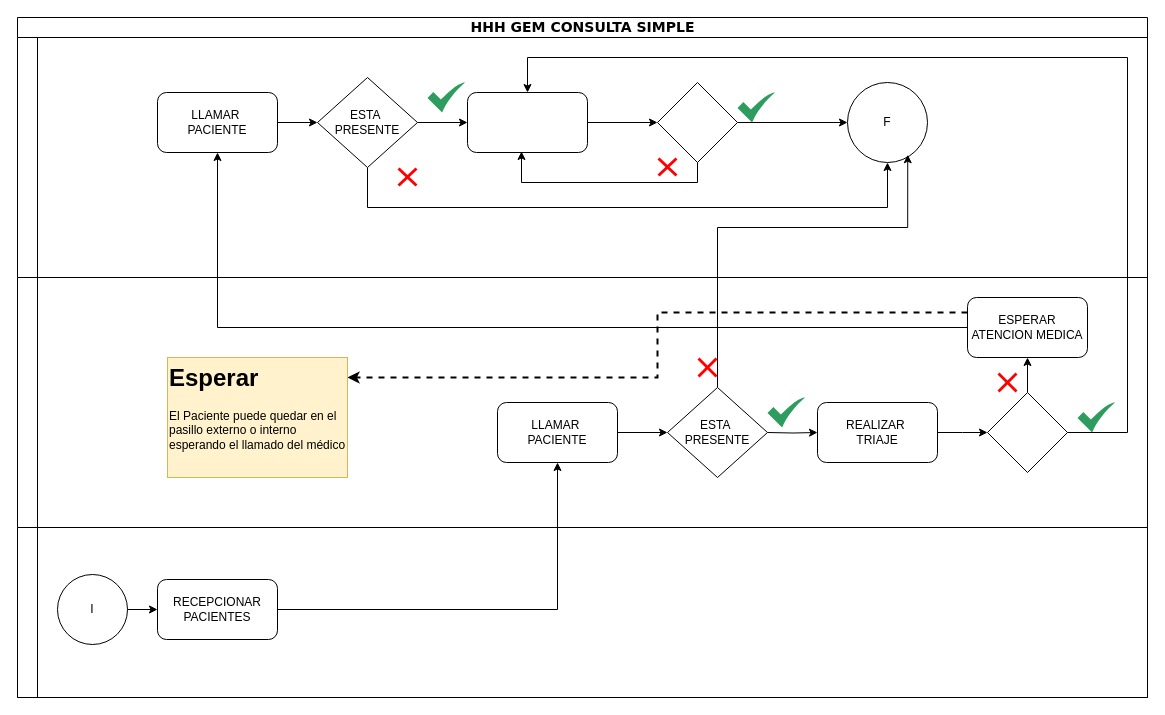
This 1165x715 diagram has some shape labels left out. Each missing label, with the box of its shape:
ATENDER PACIENTE: (466, 92, 588, 152)
ENFERMERIA: (16, 276, 1148, 528)
FINALIZA ATENCION: (656, 82, 738, 162)
GESTION DE PACIENTES: (16, 526, 1148, 698)
MEDICOS: (16, 36, 1148, 278)
Shocroom: (986, 392, 1068, 472)
